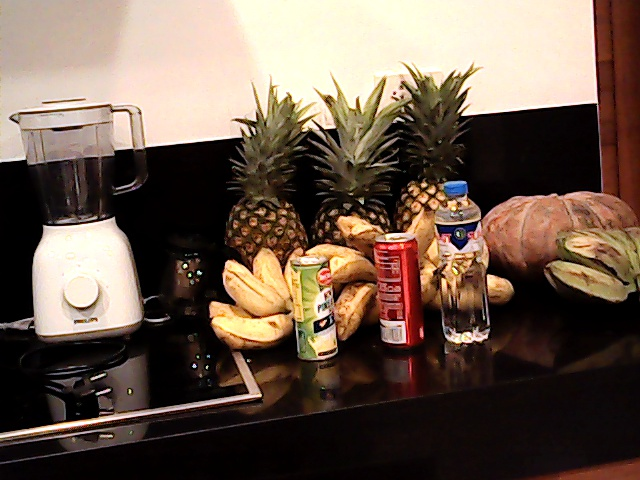Cola: (370, 228, 435, 346)
Pine Juice: (288, 256, 343, 358)
Summit Water: (435, 179, 488, 346)
